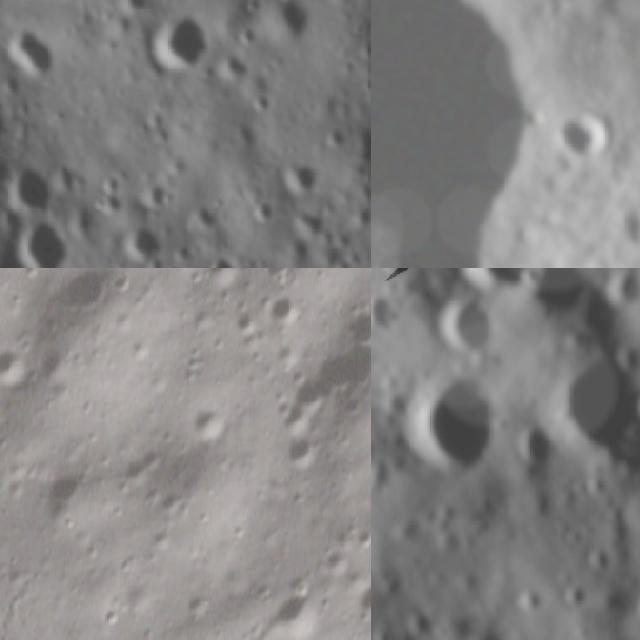crater: (387, 358, 527, 498), (546, 349, 640, 478), (28, 268, 142, 342), (538, 91, 631, 176), (421, 291, 510, 378), (512, 268, 607, 342), (259, 575, 336, 640), (277, 365, 348, 424), (451, 268, 548, 309), (511, 417, 569, 484), (183, 387, 243, 445), (39, 454, 96, 514), (149, 15, 200, 79), (603, 192, 640, 268), (259, 283, 310, 337), (0, 333, 45, 394), (12, 226, 75, 268), (388, 512, 437, 564), (371, 284, 407, 350), (281, 424, 328, 474), (371, 451, 411, 506), (602, 268, 640, 324), (578, 543, 622, 586), (9, 33, 46, 84), (8, 173, 59, 210), (560, 580, 600, 624), (510, 583, 552, 624), (116, 223, 165, 257), (340, 307, 371, 358), (347, 561, 371, 626), (286, 159, 318, 196), (254, 202, 275, 228), (199, 257, 236, 268)
